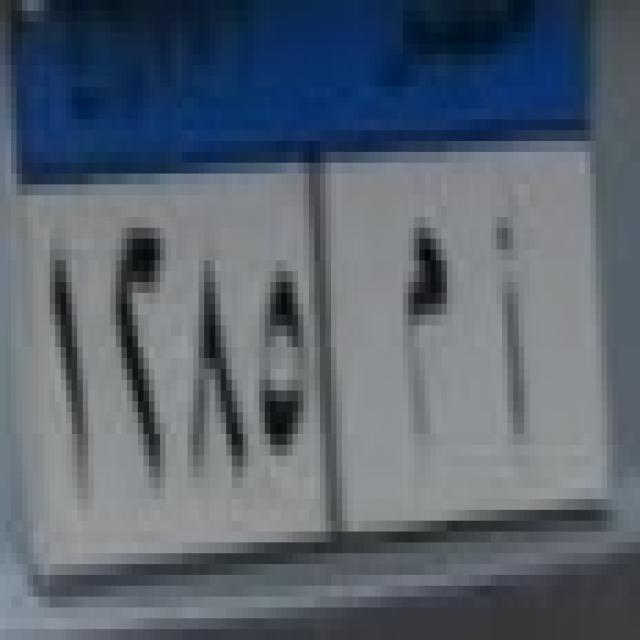1: (41, 242, 96, 484)
2: (107, 213, 172, 510)
5: (257, 256, 311, 478)
8: (186, 242, 247, 488)
Meem: (400, 206, 450, 459)
alef: (486, 198, 544, 448)
